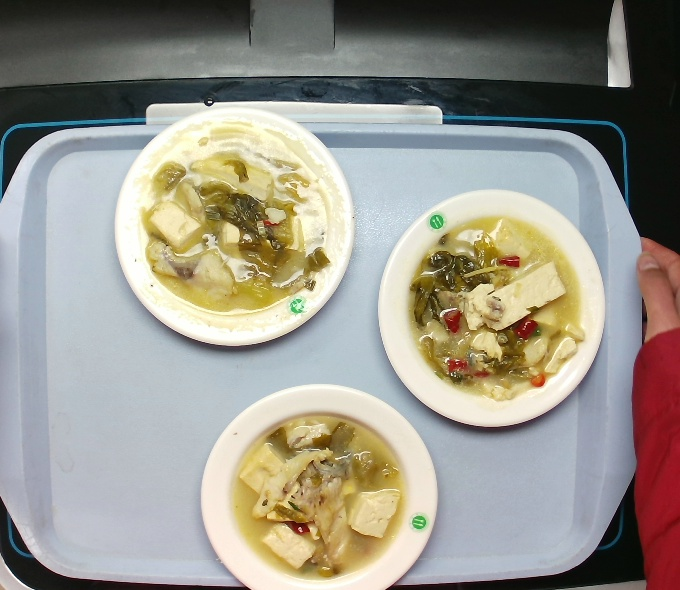wcq-SuanCaiDouFuYu: (138, 119, 335, 325), (402, 208, 591, 402), (225, 408, 415, 578)
